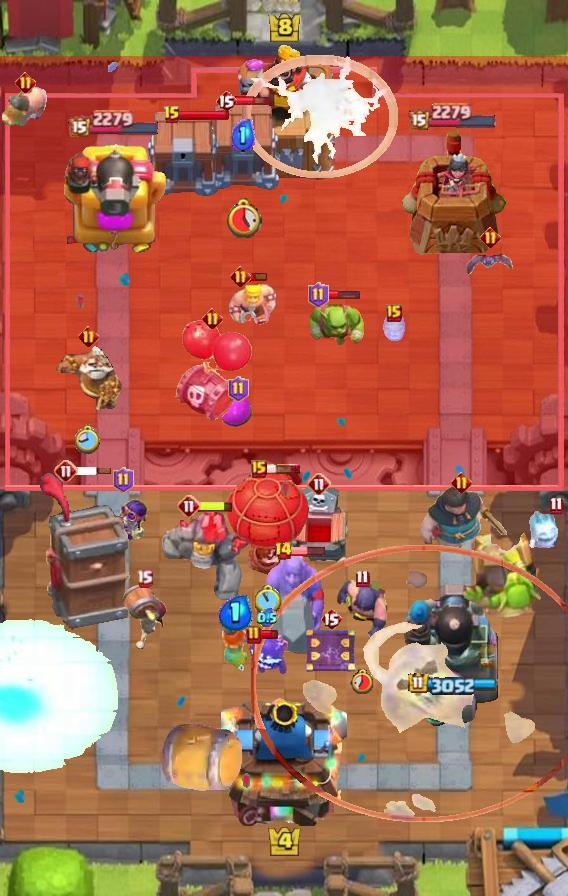archer: (228, 277, 280, 329)
archer-queen: (261, 552, 327, 664)
barbarian-barrel: (465, 253, 515, 277)
barbarian-evolution: (242, 54, 398, 177)
bat: (524, 509, 568, 555)
bomb: (204, 105, 282, 191), (144, 112, 222, 198)
cannon-cart: (223, 466, 313, 576)
cannoneer-tower: (160, 503, 254, 603)
dart-goblin: (38, 472, 129, 630)
dirt: (159, 721, 243, 795)
electro-spirit: (219, 595, 253, 631), (232, 119, 255, 150), (257, 608, 277, 628)
elixir: (224, 198, 263, 239), (75, 424, 101, 455), (255, 585, 281, 615), (350, 668, 375, 694)
elixir-collector: (53, 343, 123, 417)
elixir-golem-mid: (284, 486, 354, 572)
emote: (178, 109, 230, 121), (234, 93, 270, 106), (198, 499, 234, 512), (265, 463, 301, 475), (290, 545, 326, 557), (327, 288, 362, 300), (76, 466, 112, 476), (248, 271, 268, 282), (260, 628, 280, 639)
executioner: (2, 82, 48, 126)
flying-machine: (302, 296, 364, 350)
goblin-ball: (97, 497, 149, 551)
hog-rider: (217, 622, 255, 674)
ice-spirit-evolution: (383, 312, 405, 342)
ice-spirit-evolution-symbol: (304, 625, 358, 675)
king-tower: (221, 690, 347, 826), (230, 43, 338, 181)
knight: (120, 582, 168, 652)
mega-knight: (0, 616, 122, 777)
miner: (222, 397, 254, 427)
monk: (335, 577, 389, 647)
queen-tower: (398, 128, 508, 256)
royal-ghost: (252, 546, 568, 823)
royal-hog: (414, 485, 508, 551)
royal-recruit-evolution: (171, 319, 253, 425)
selected: (67, 109, 160, 137), (408, 102, 498, 130), (408, 672, 498, 696)
spear-goblin: (246, 631, 288, 677)
text: (54, 459, 78, 483), (307, 472, 331, 496), (177, 494, 201, 518), (307, 282, 328, 308), (227, 376, 248, 402), (114, 467, 135, 493), (215, 89, 237, 113), (320, 607, 342, 631), (479, 227, 501, 249), (16, 71, 37, 93), (78, 325, 99, 347), (229, 266, 250, 287), (201, 308, 222, 329), (451, 471, 472, 492), (274, 541, 294, 561), (163, 105, 181, 125), (135, 568, 153, 587), (246, 625, 262, 645), (386, 304, 402, 322), (251, 460, 267, 478), (548, 497, 563, 515), (355, 568, 369, 587)
tower-bar: (402, 579, 504, 731), (60, 138, 168, 256)
x-bow: (460, 526, 546, 622)
